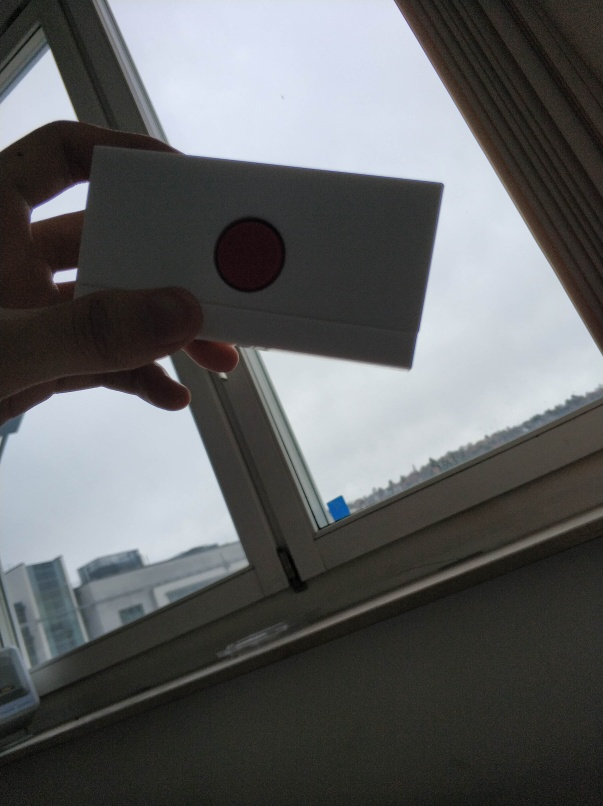white+white+red: (69, 140, 450, 375)
